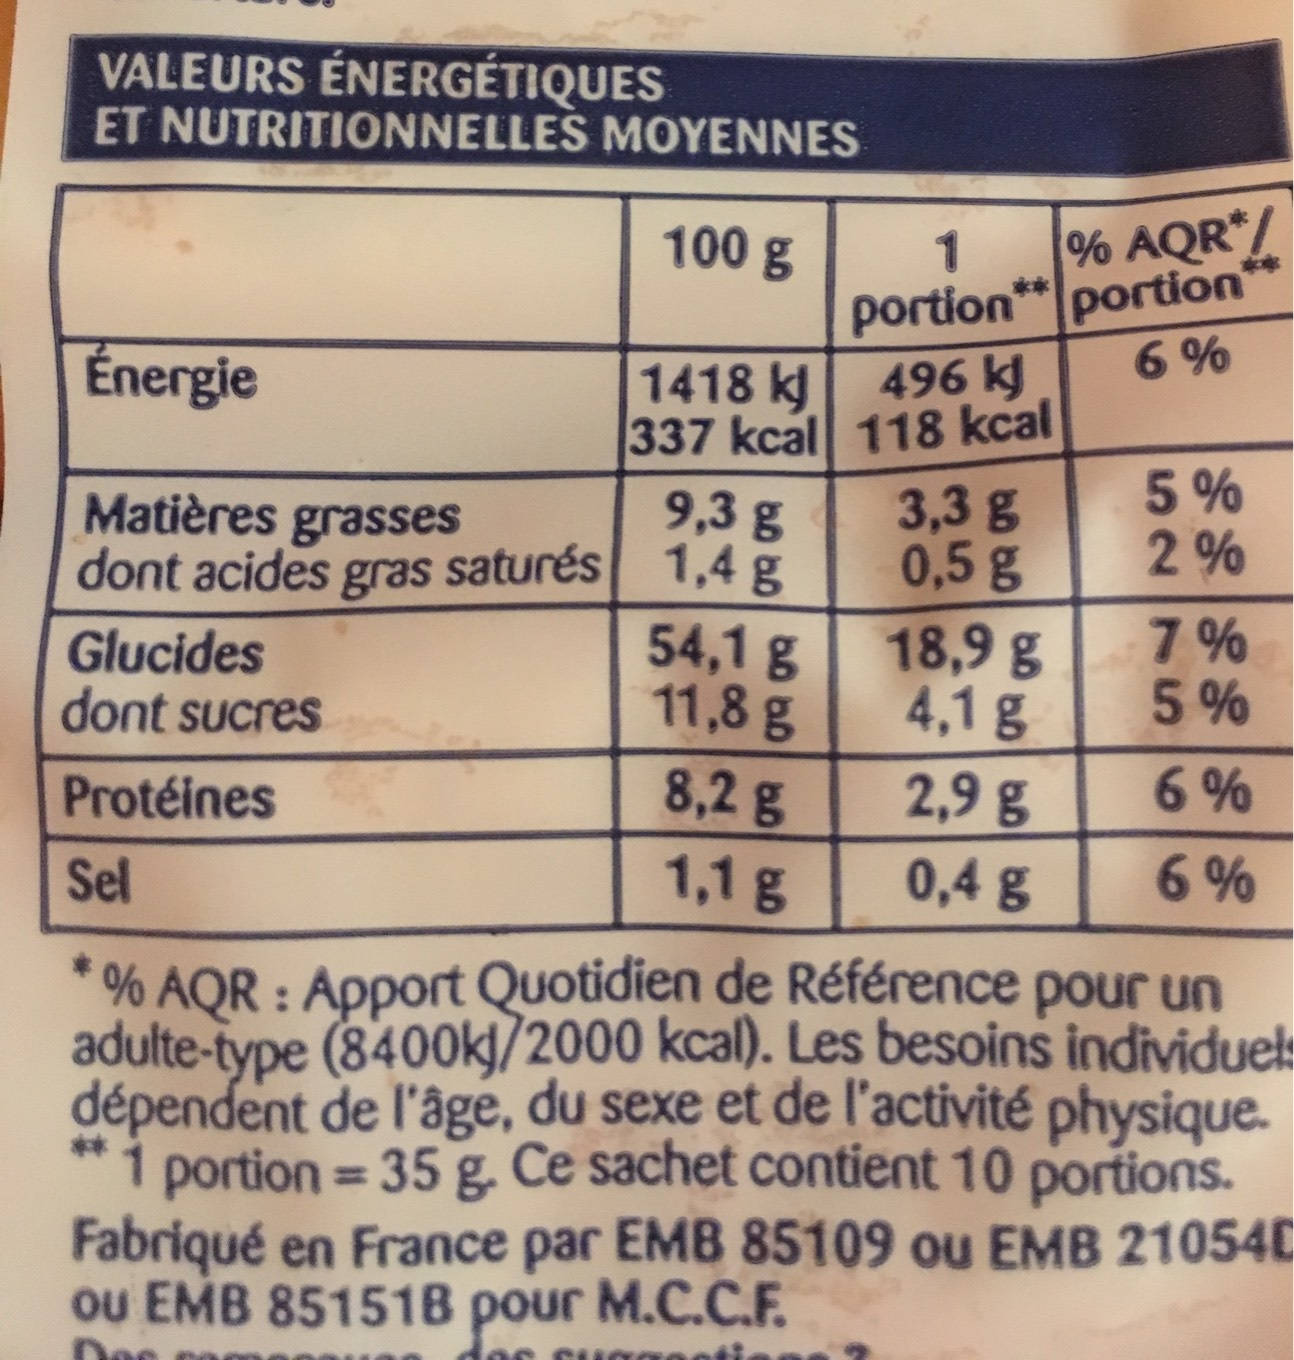column: (62, 206, 606, 916), (1069, 206, 1277, 920), (847, 212, 1052, 922), (637, 199, 816, 933)
table: (33, 22, 1294, 950)
